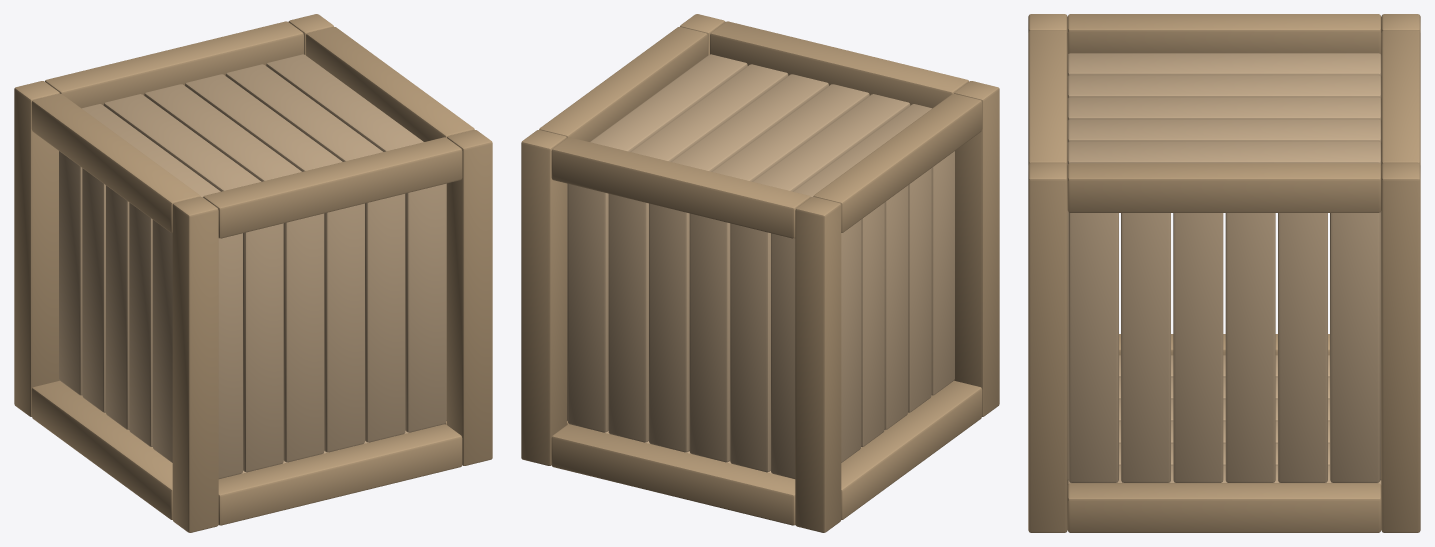
The model's file is Caixote_Madeira.glb.
3 views of the same model, side by side, from view 1: azimuth 30°, elevation 25°; view 2: azimuth 150°, elevation 25°; view 3: azimuth 270°, elevation 25° (orthographic). The views are drawn at different scales.
Visible parts, largest first — view 1: WoodenCrate; view 2: WoodenCrate; view 3: WoodenCrate.
Boxes of the visible parts, <box> form: WoodenCrate: <box>14,14,492,532</box>; WoodenCrate: <box>521,14,999,532</box>; WoodenCrate: <box>1028,14,1420,532</box>.
Size of the model in its own units: 2 by 2 by 2.
